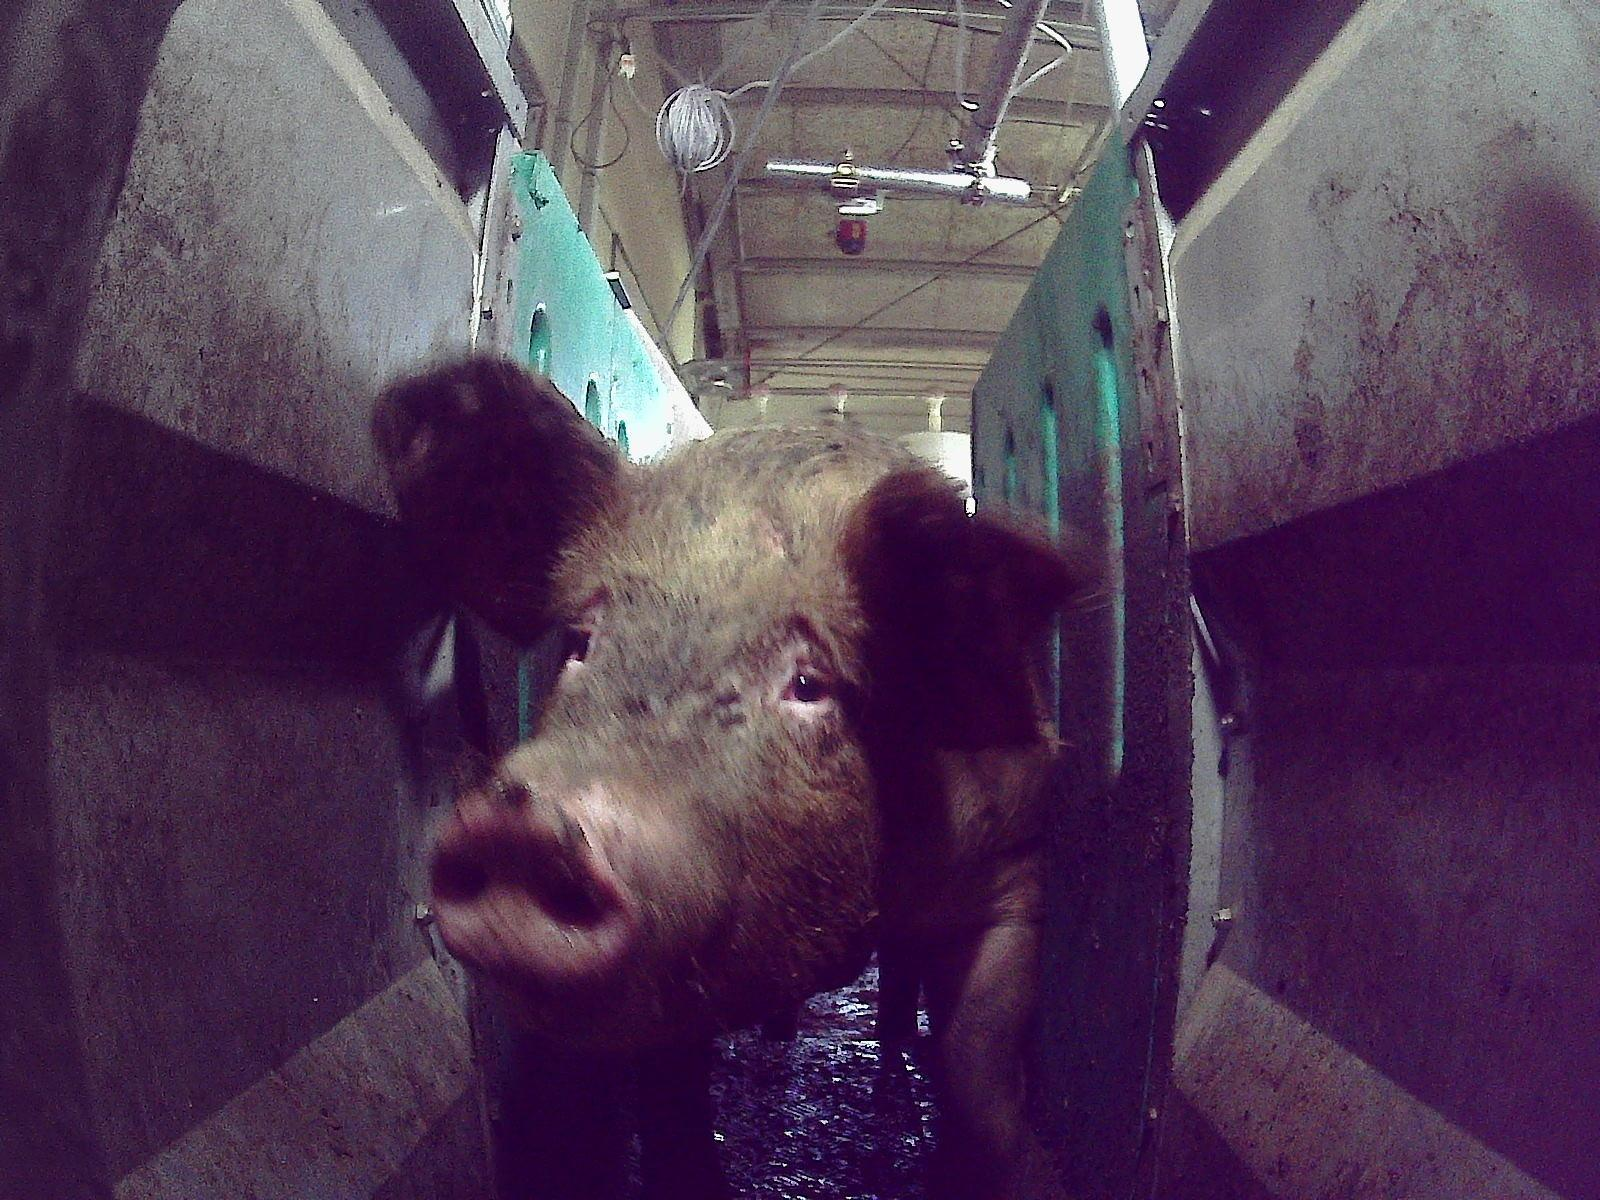Face: (421, 474, 929, 1053)
